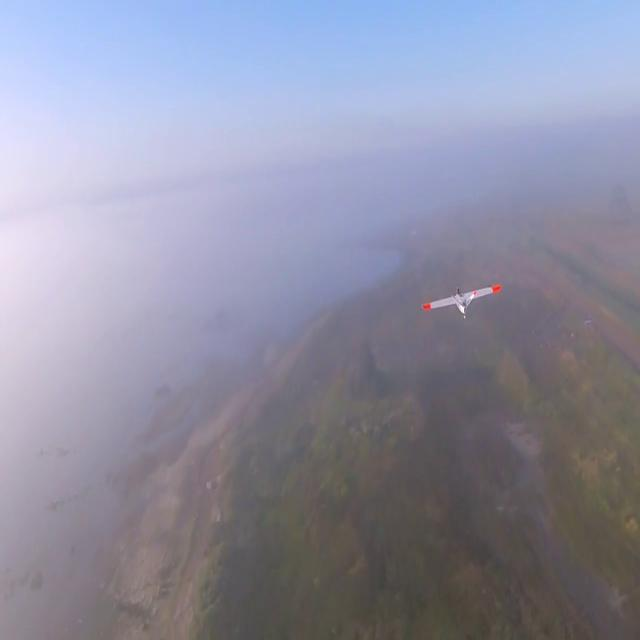iha: (452, 282, 471, 321)
